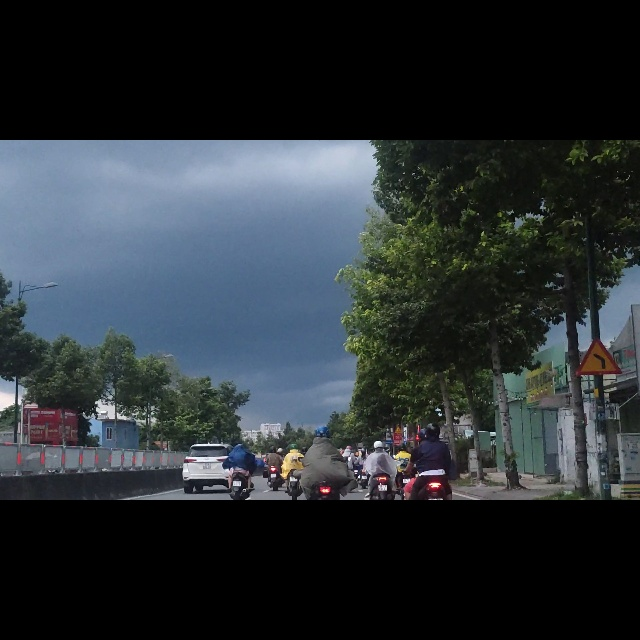bien_nguy_hiem: (574, 348, 624, 418)
